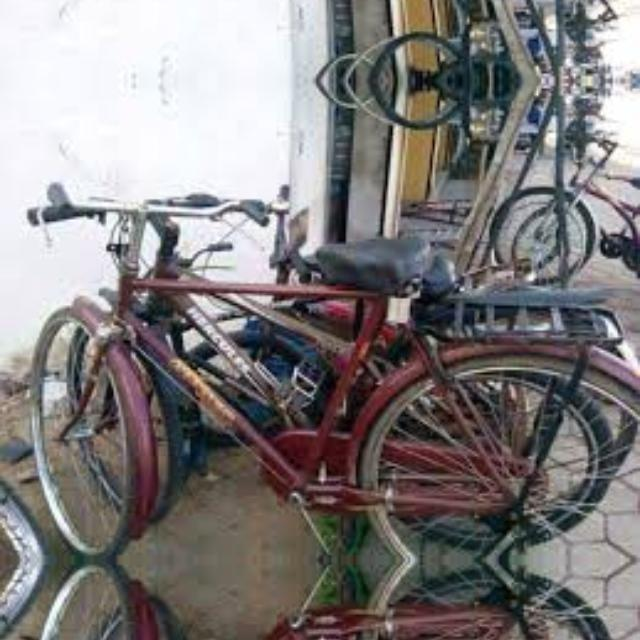obstacle: (29, 162, 638, 560), (29, 559, 638, 640)
